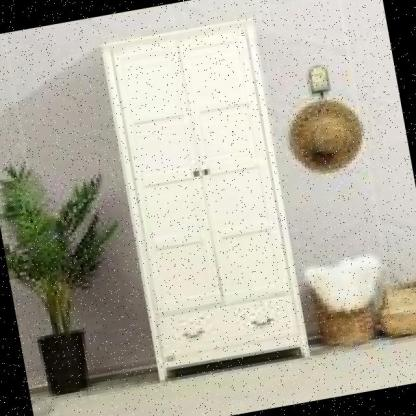Closet: (81, 8, 323, 394)
